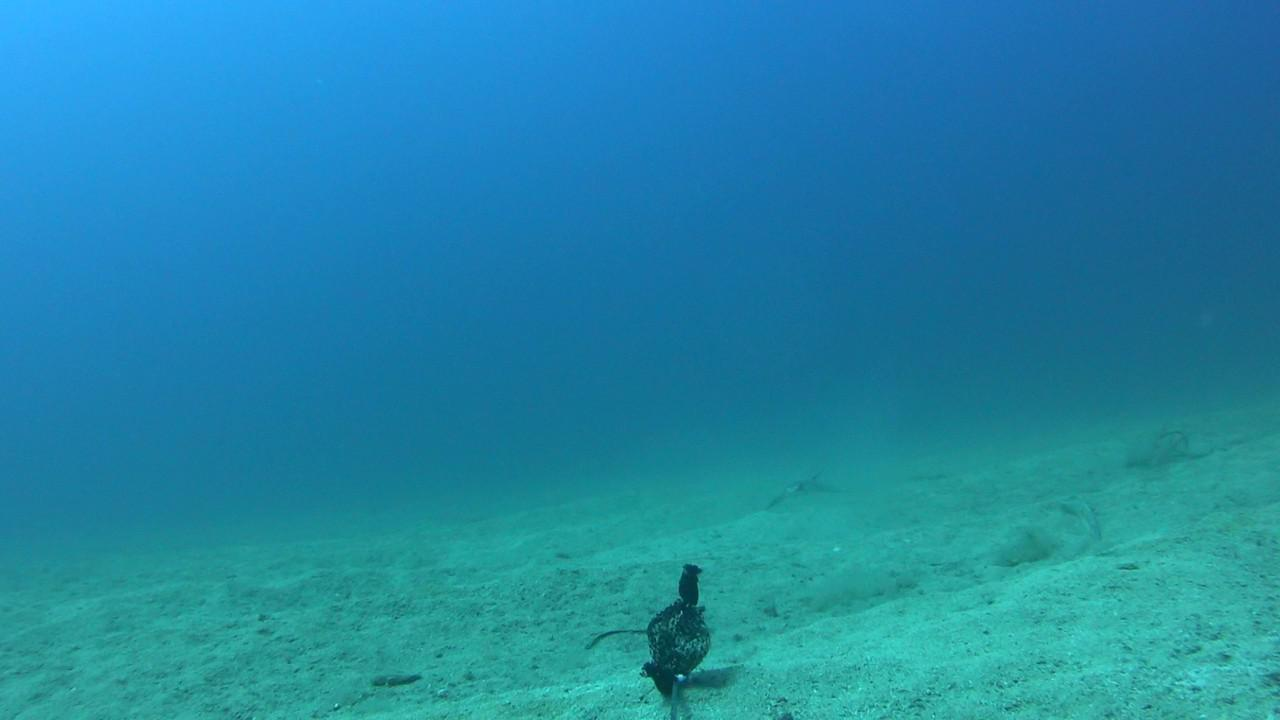myliobatis: (739, 456, 879, 523)
